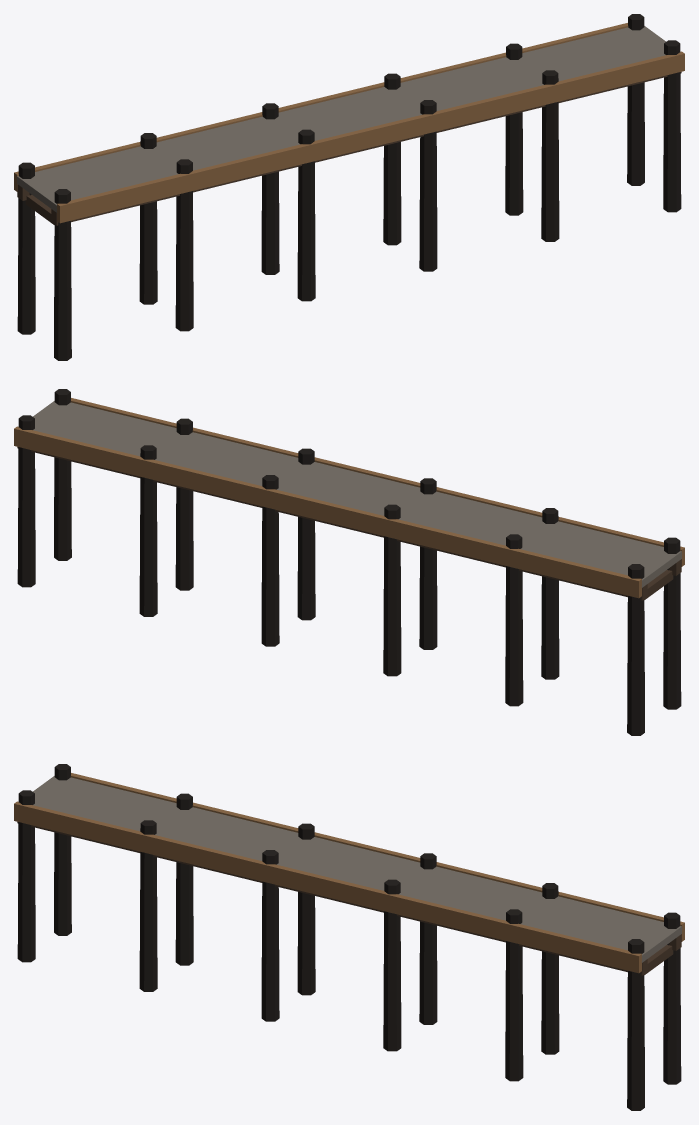
The model's file is pier_finger_16m.glb.
The picture shows the model from 3 angles, top to bottom: view 1: azimuth 30°, elevation 25°; view 2: azimuth 150°, elevation 25°; view 3: azimuth 330°, elevation 25°; orthographic projection.
Visible parts, largest first — view 1: pier_finger_16m_piles, pier_finger_16m_deck_x, pier_finger_16m_rubrail, pier_finger_16m_frame; view 2: pier_finger_16m_piles, pier_finger_16m_deck_x, pier_finger_16m_rubrail, pier_finger_16m_frame; view 3: pier_finger_16m_piles, pier_finger_16m_deck_x, pier_finger_16m_rubrail, pier_finger_16m_frame.
Part boxes in pixels (x1,y1,x2,y2): pier_finger_16m_piles: (17, 14, 681, 360); pier_finger_16m_deck_x: (16, 26, 665, 212); pier_finger_16m_rubrail: (14, 23, 684, 223); pier_finger_16m_frame: (17, 72, 681, 225); pier_finger_16m_piles: (17, 389, 681, 735); pier_finger_16m_deck_x: (33, 401, 682, 587); pier_finger_16m_rubrail: (14, 398, 684, 598); pier_finger_16m_frame: (17, 447, 681, 600); pier_finger_16m_piles: (17, 764, 681, 1110); pier_finger_16m_deck_x: (33, 776, 682, 962); pier_finger_16m_rubrail: (14, 773, 684, 973); pier_finger_16m_frame: (17, 822, 681, 975).
Bounding box in the file's own units: 16 × 4.05 × 2.04.
